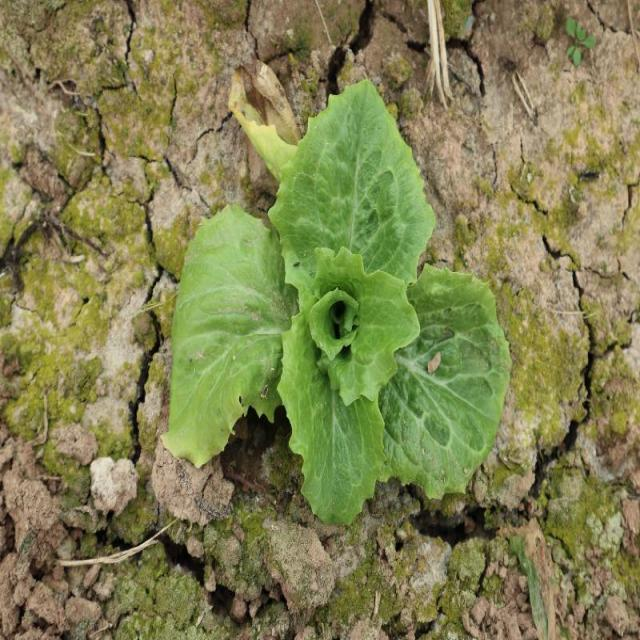crop: (166, 79, 513, 525)
